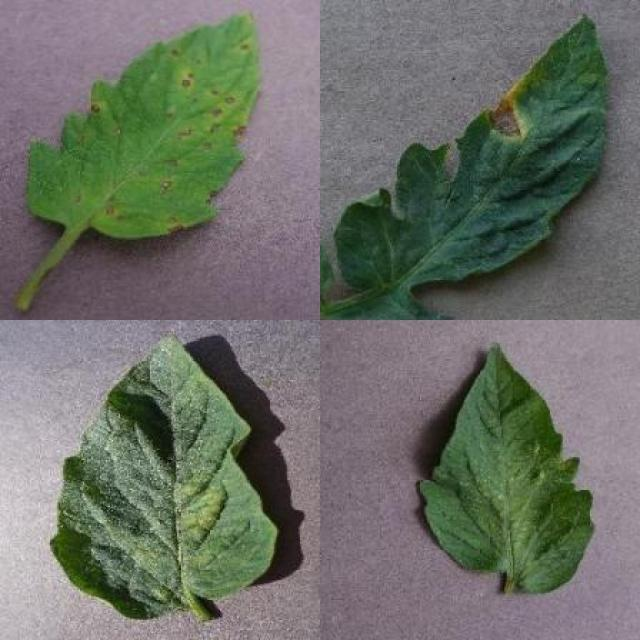Early Blight: (335, 16, 611, 287)
Septoria: (30, 8, 264, 242)
Spider Mites: (52, 332, 278, 618), (419, 341, 597, 596)
